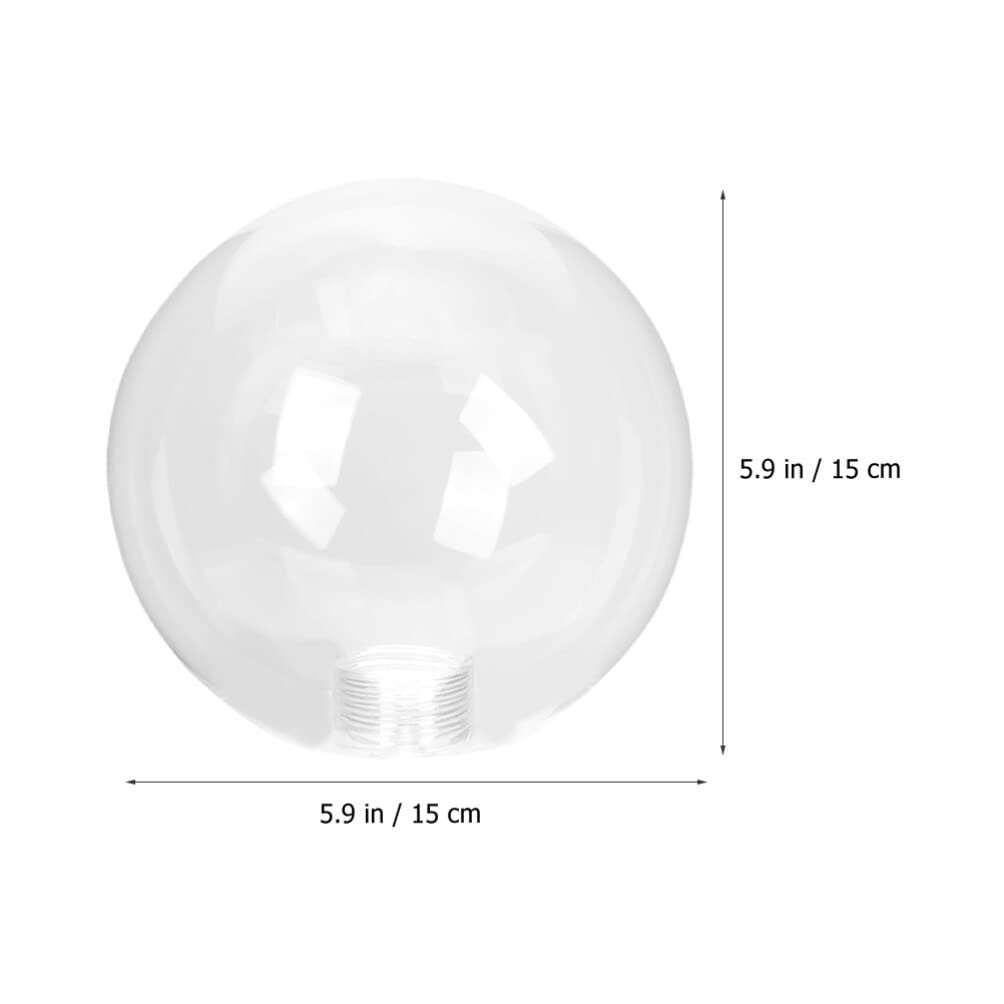15cm: (413, 803, 480, 824)
5.9in/: (320, 802, 402, 828)
5.9in/15cm: (740, 457, 900, 483)
